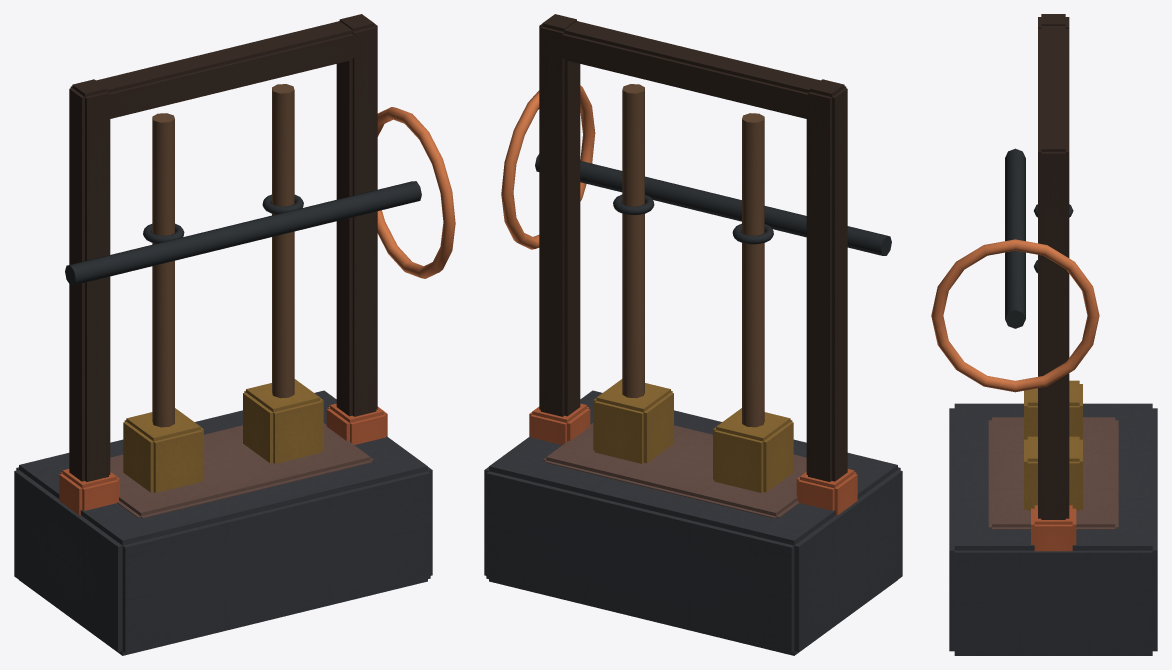
File: crusher_ore_stamp.glb
The picture shows the model from 3 angles, left to right: view 1: azimuth 30°, elevation 25°; view 2: azimuth 150°, elevation 25°; view 3: azimuth 270°, elevation 25°; orthographic projection. The views are drawn at different scales.
Parts seen in each view (by area): view 1: crusher_ore_stamp; view 2: crusher_ore_stamp; view 3: crusher_ore_stamp.
Part boxes in pixels (bbox=[...]): crusher_ore_stamp: bbox=[14, 14, 455, 655]; crusher_ore_stamp: bbox=[484, 14, 902, 655]; crusher_ore_stamp: bbox=[931, 14, 1157, 655].
Size of the model in its own units: 2.2 by 3.2 by 1.31.
1 material, 1 textured.
